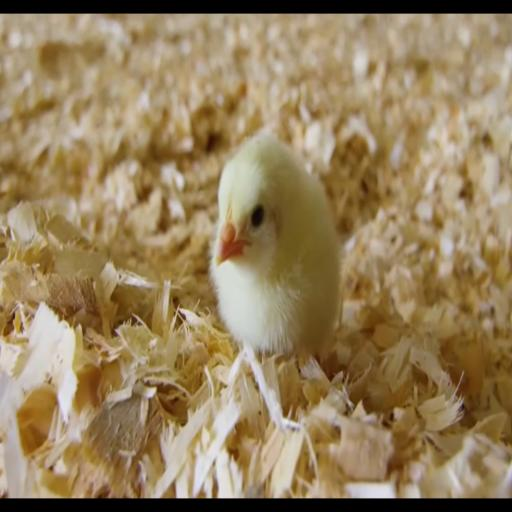chick: (211, 135, 341, 355)
